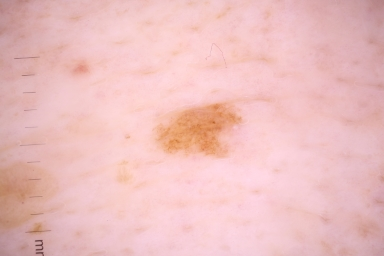melanoma: (157, 104, 239, 158)
